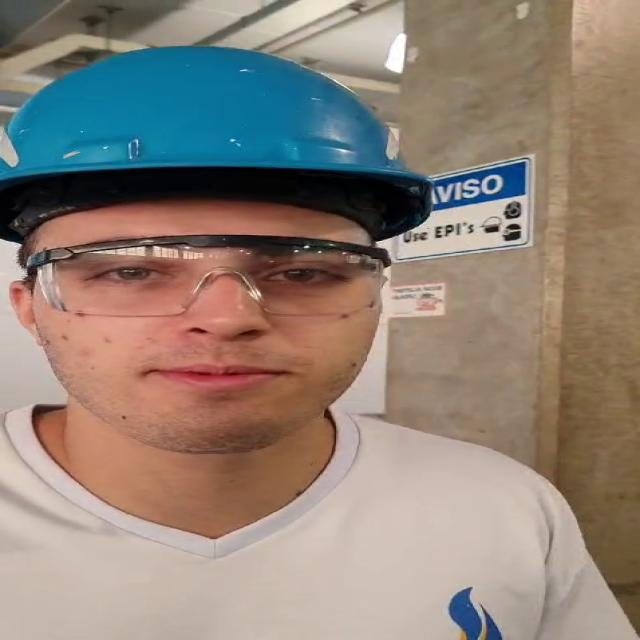oculos-epi: (29, 234, 384, 323)
